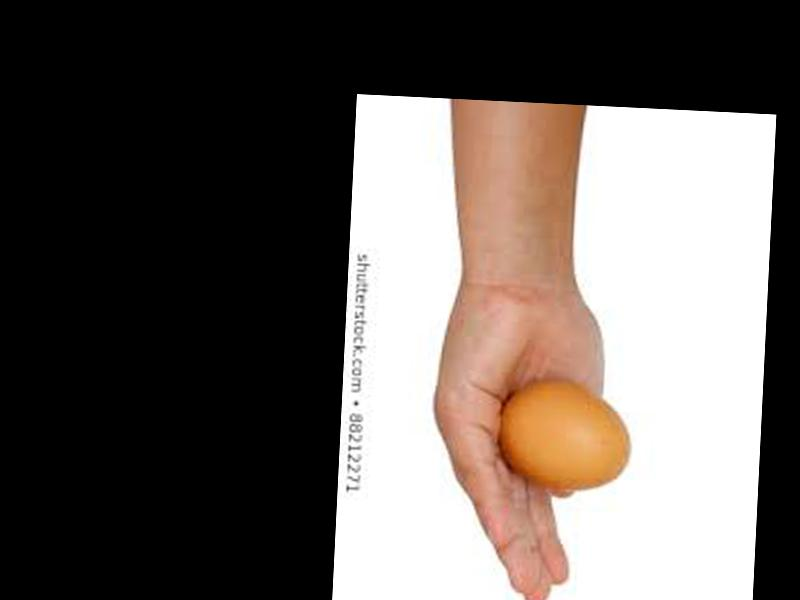Eggs: (494, 378, 634, 492)
